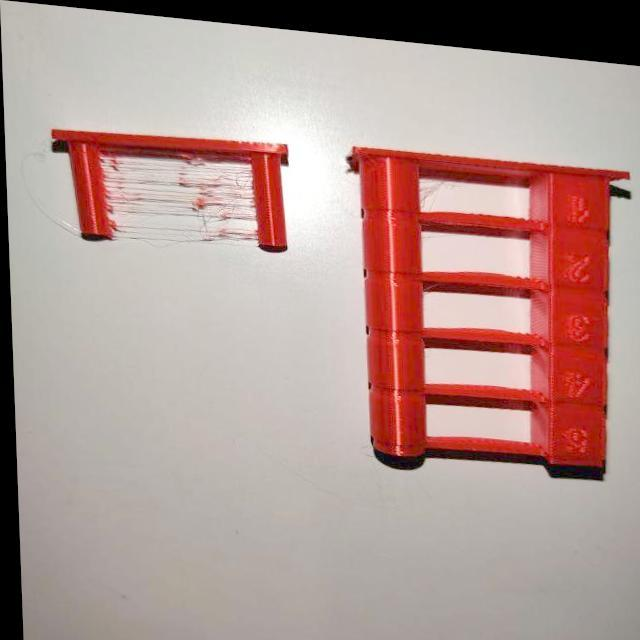stringing: (90, 134, 260, 240)
